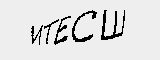Е: (55, 15, 72, 44)
И: (27, 22, 42, 44)
С: (69, 7, 96, 42)
Т: (44, 17, 55, 44)
Ш: (100, 8, 126, 41)
